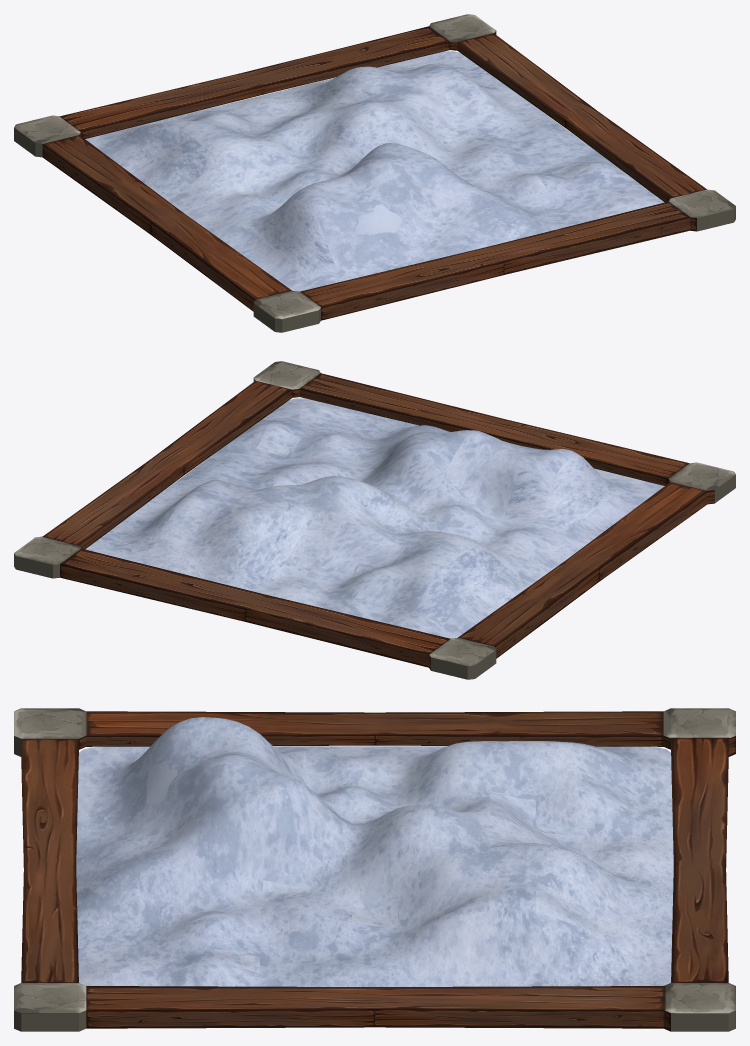
The model's file is Hs_IceTrap.fbx.
3 renders of one model, top to bottom at view 1: azimuth 30°, elevation 25°; view 2: azimuth 150°, elevation 25°; view 3: azimuth 270°, elevation 25°, orthographic. The views are drawn at different scales.
Visible parts, largest first — view 1: Plane, Base; view 2: Plane, Base; view 3: Plane, Base.
Part boxes in pixels (x1,y1,x2,y2): Plane: (86, 51, 664, 291); Base: (14, 14, 735, 332); Plane: (85, 398, 663, 638); Base: (14, 361, 735, 679); Plane: (76, 717, 673, 986); Base: (14, 708, 735, 1031).
Size of the model in its own units: 10 by 1.39 by 10.
